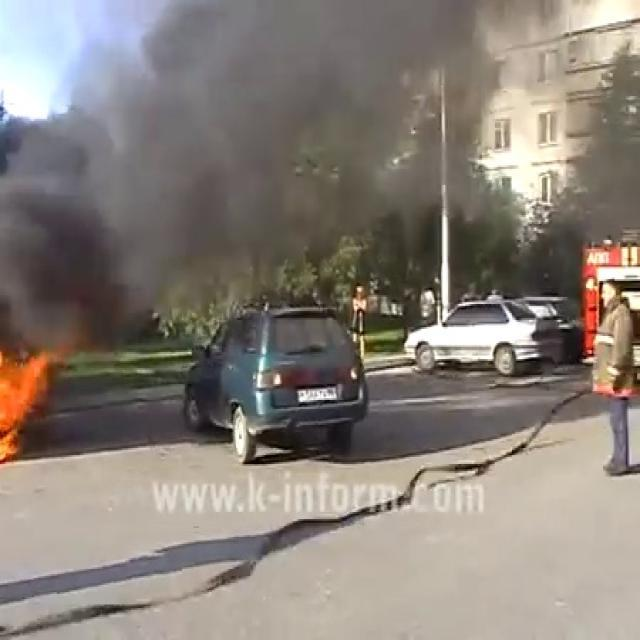Fire: (0, 337, 53, 467)
Smoke: (1, 0, 616, 313)
